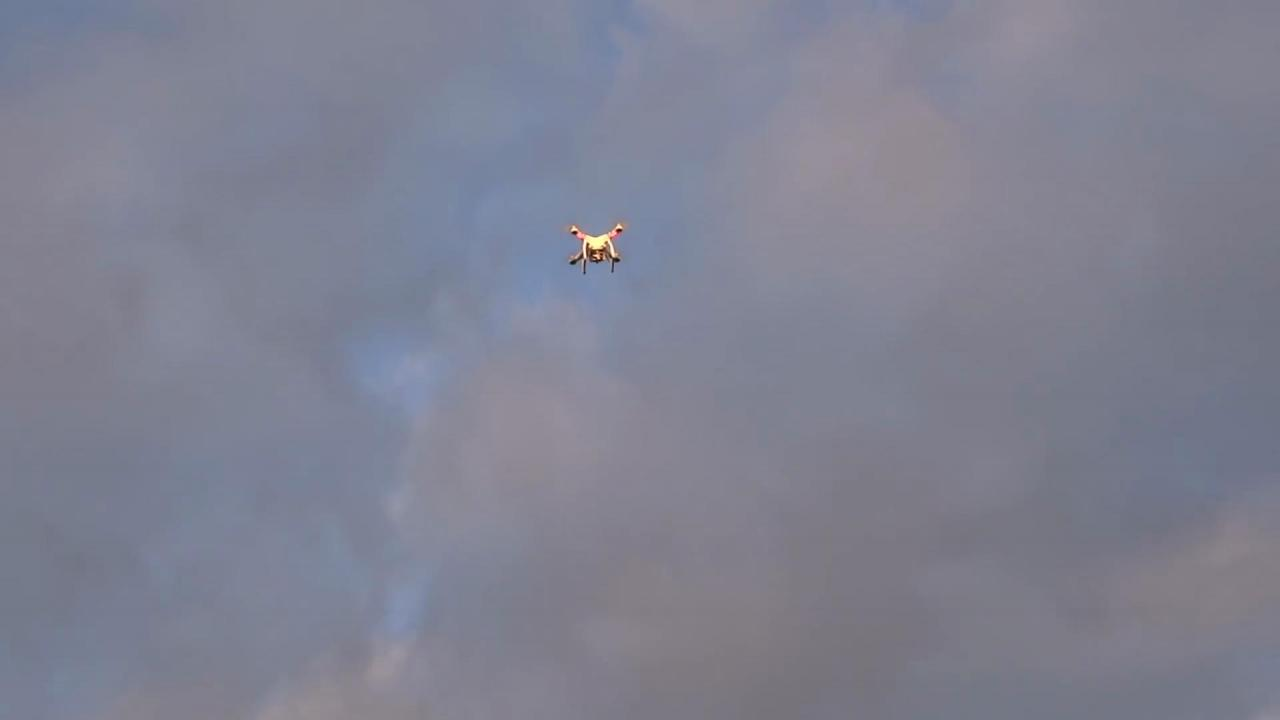Drone: (557, 212, 633, 286)
